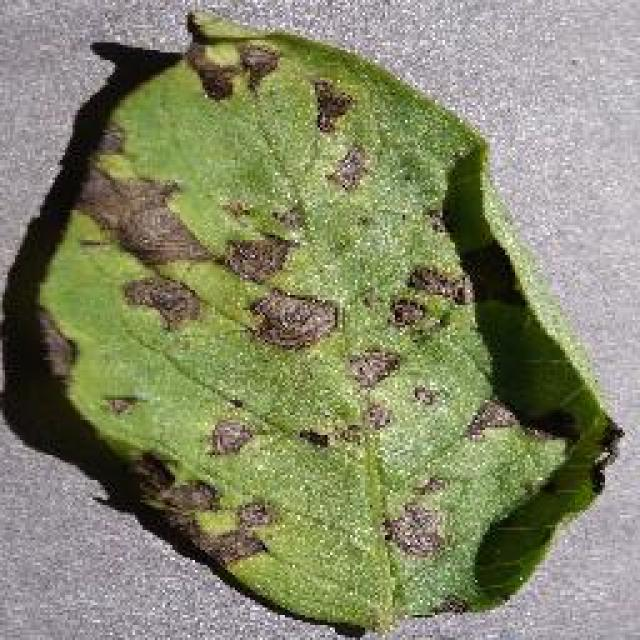early_blight: (22, 8, 622, 638)
